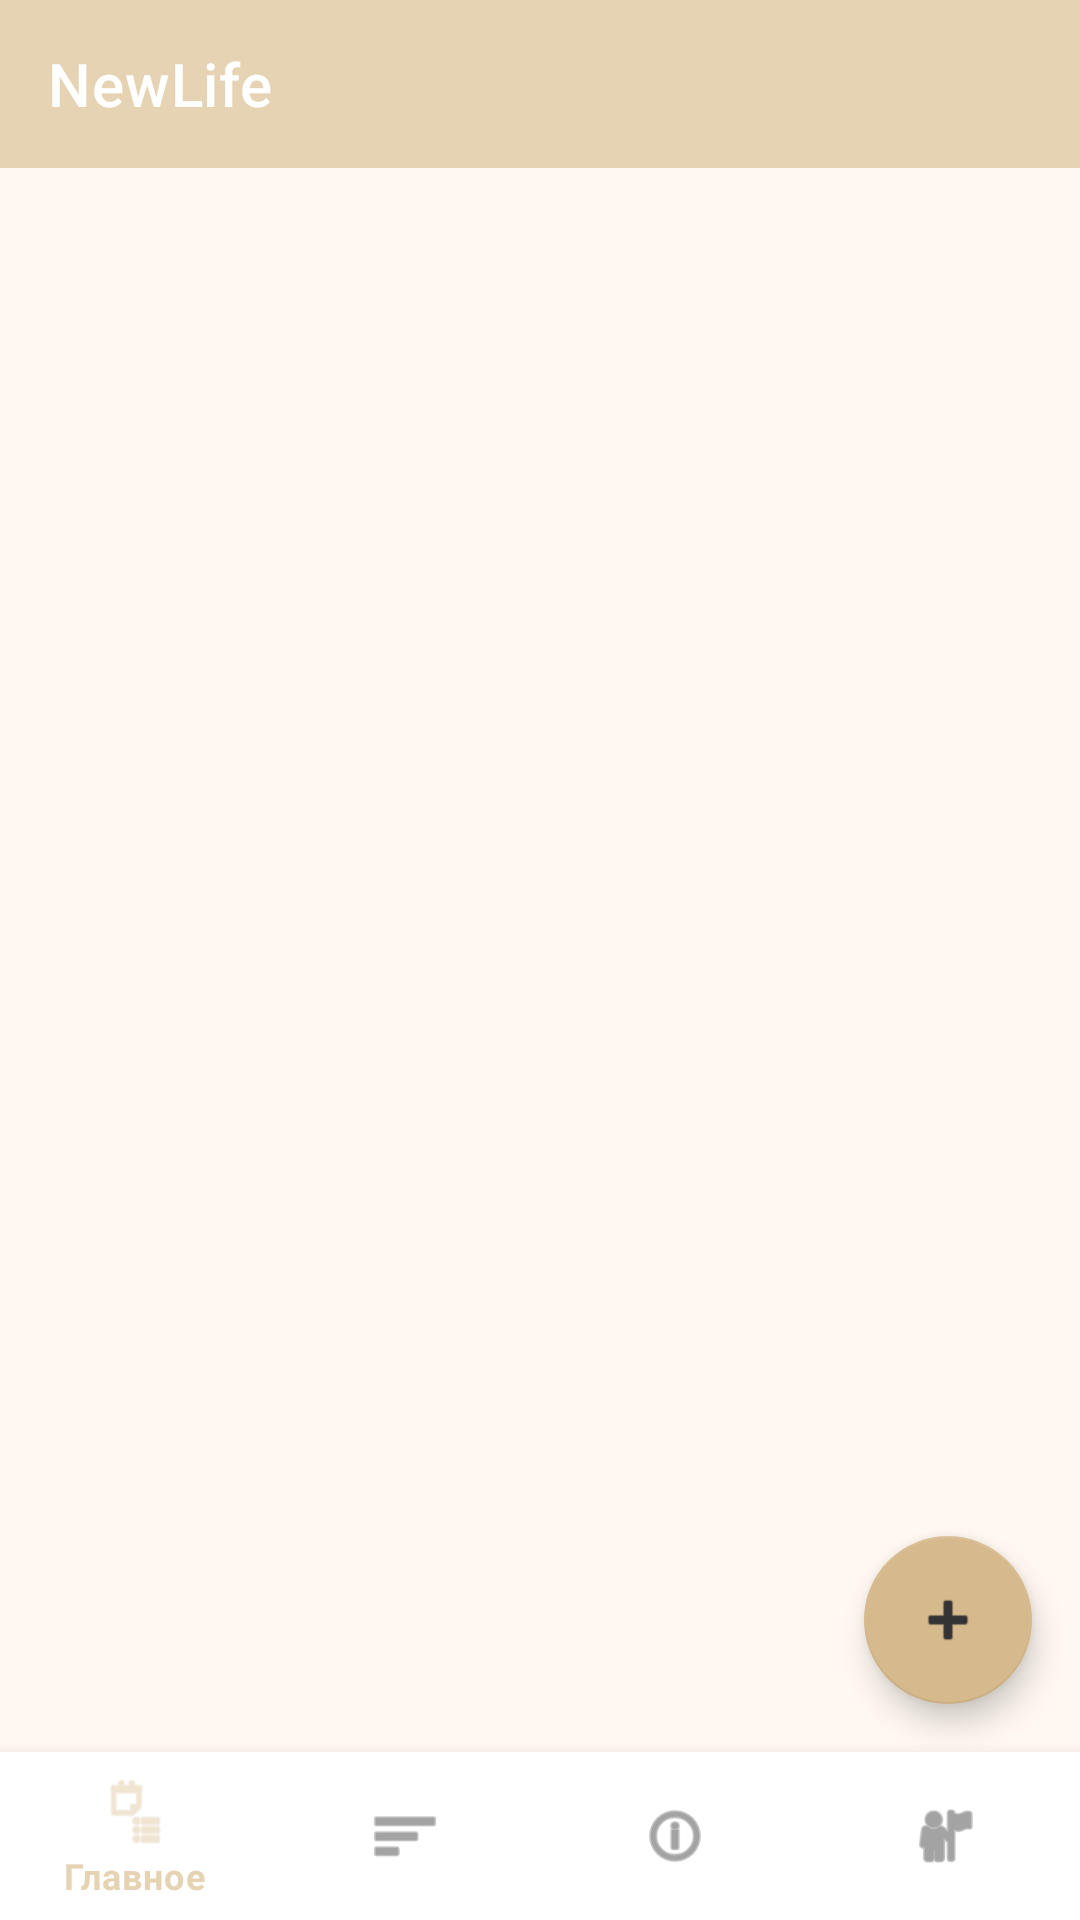

Named icons in this screenshot (1080 × 1920) and their bounding boxes, (x1, y1, x2, y2):
add: (864, 1536, 1032, 1704)
